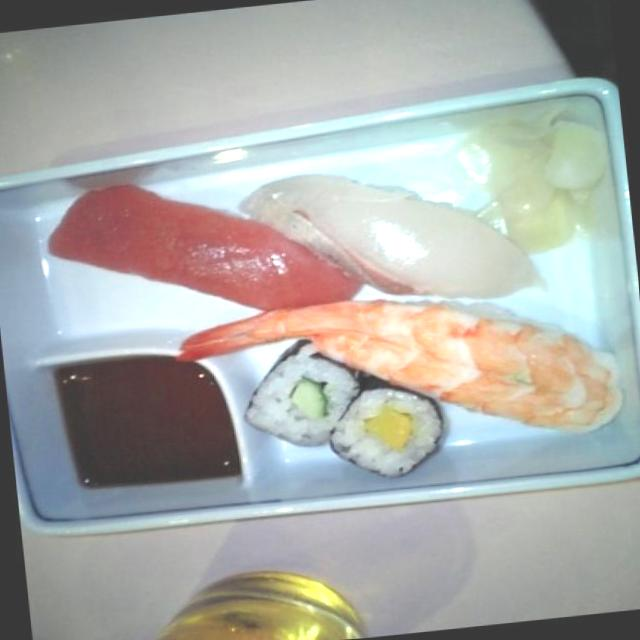Sushi: (332, 376, 458, 482), (246, 354, 354, 441)
